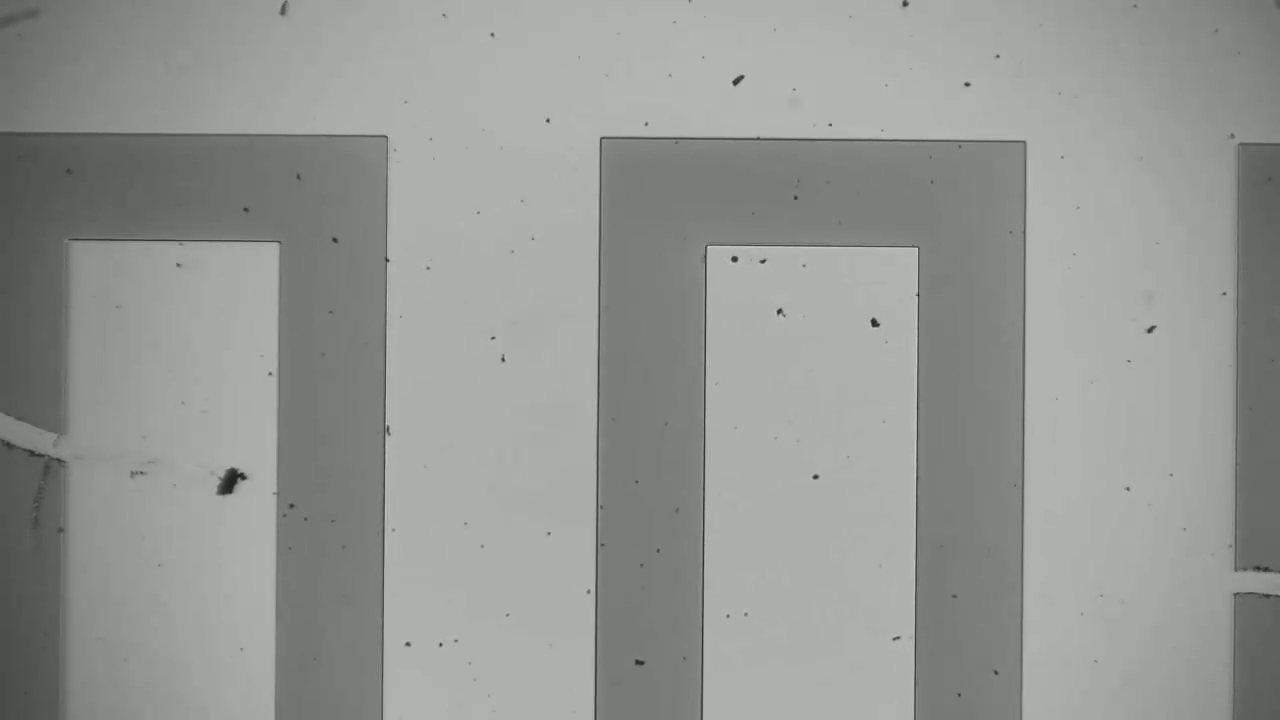Short_circuit: (1, 394, 98, 484), (1210, 547, 1280, 620)
